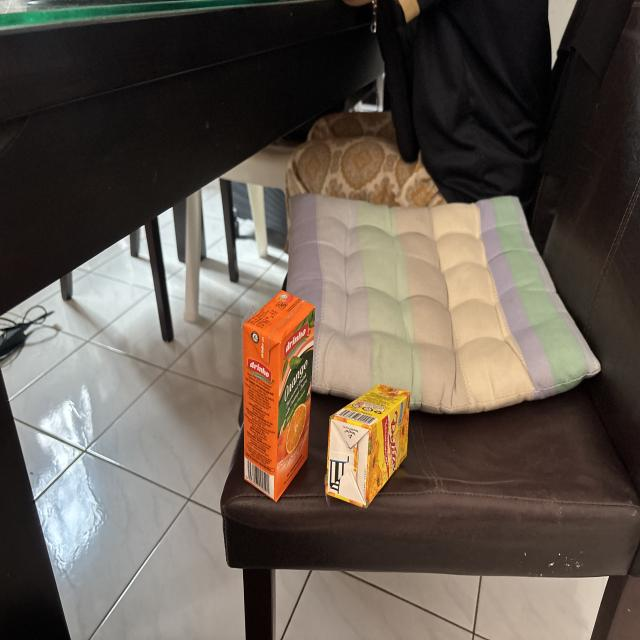drink_carton: (233, 279, 319, 508), (319, 377, 424, 515)
